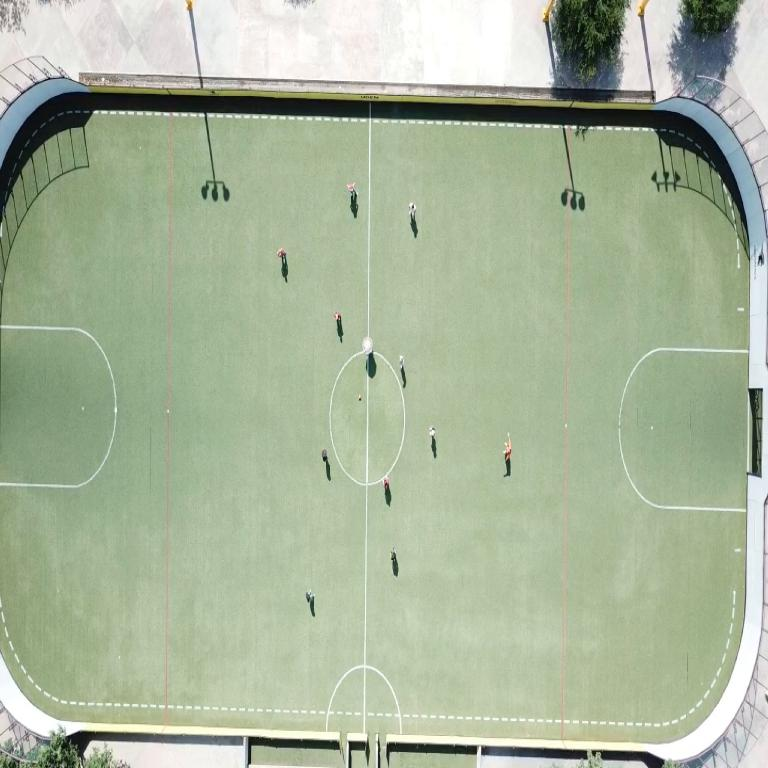AC: (619, 349, 748, 510), (0, 324, 116, 487)
B: (358, 394, 361, 400)
MC: (362, 362, 370, 732)
P: (334, 312, 343, 342), (362, 337, 373, 355), (347, 183, 356, 200), (504, 440, 511, 460), (278, 248, 286, 261), (306, 590, 314, 603), (409, 202, 415, 219), (391, 547, 397, 563), (383, 476, 389, 491), (321, 448, 327, 461), (334, 312, 341, 323), (429, 426, 435, 438), (400, 355, 404, 370)
